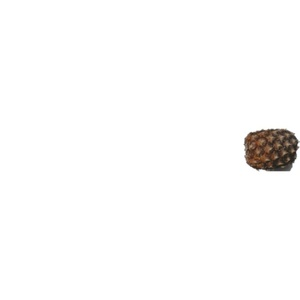abacaxi: (242, 124, 299, 173)
